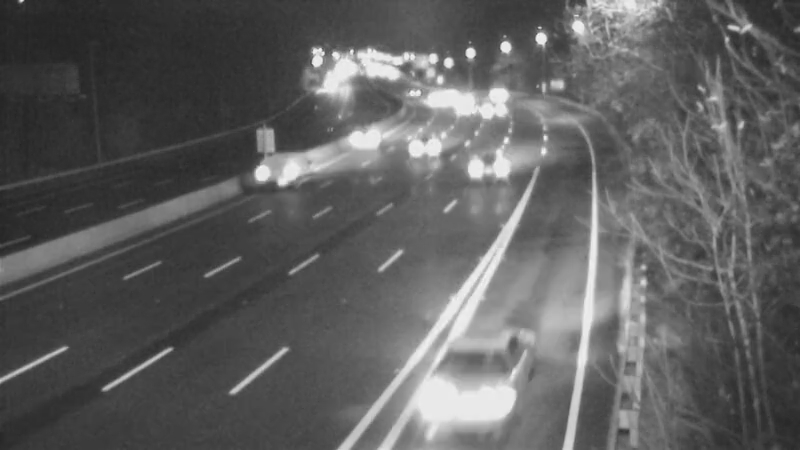vehicle: (405, 343, 515, 450), (442, 125, 522, 205), (237, 128, 317, 208), (467, 70, 517, 120), (470, 83, 520, 133), (433, 82, 483, 132), (342, 106, 392, 156), (408, 123, 458, 173)
